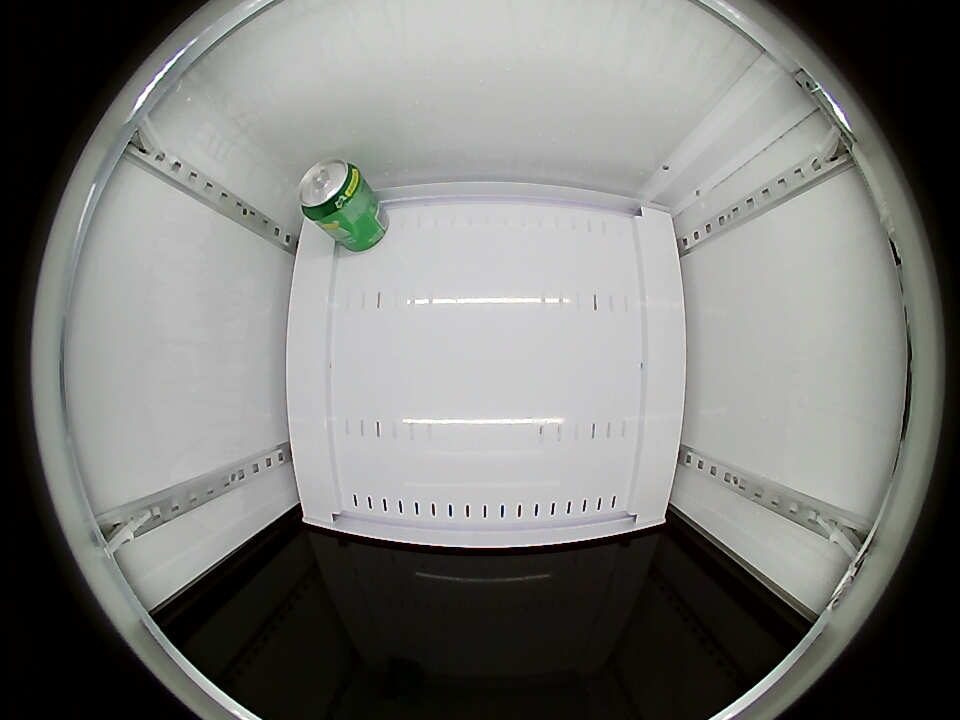xuebi2: (298, 159, 366, 223)
